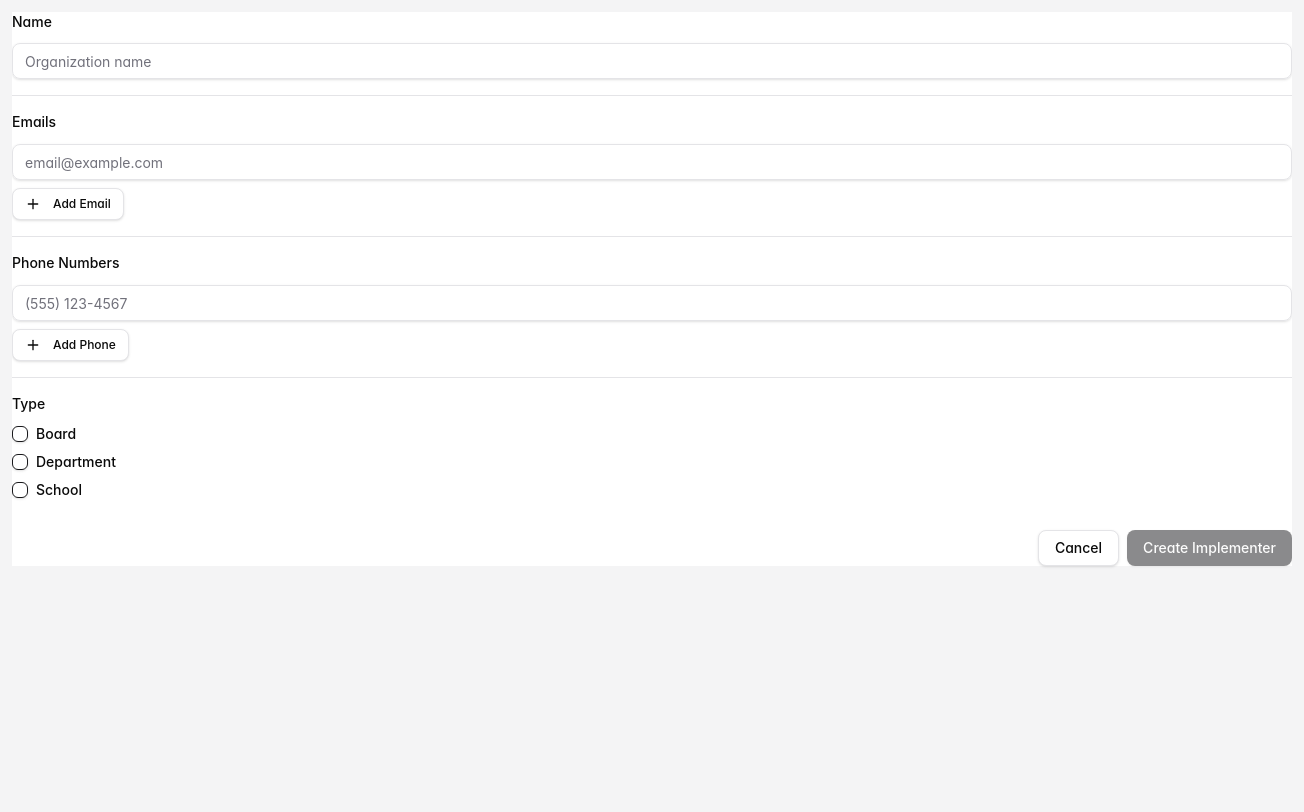
Test: ImplementerForm › create mode › shows validation error for empty name on blur
This screenshot has width=1304, height=812.
In the field labelled "Name": (652, 61) [12,43,1292,79], type "a"
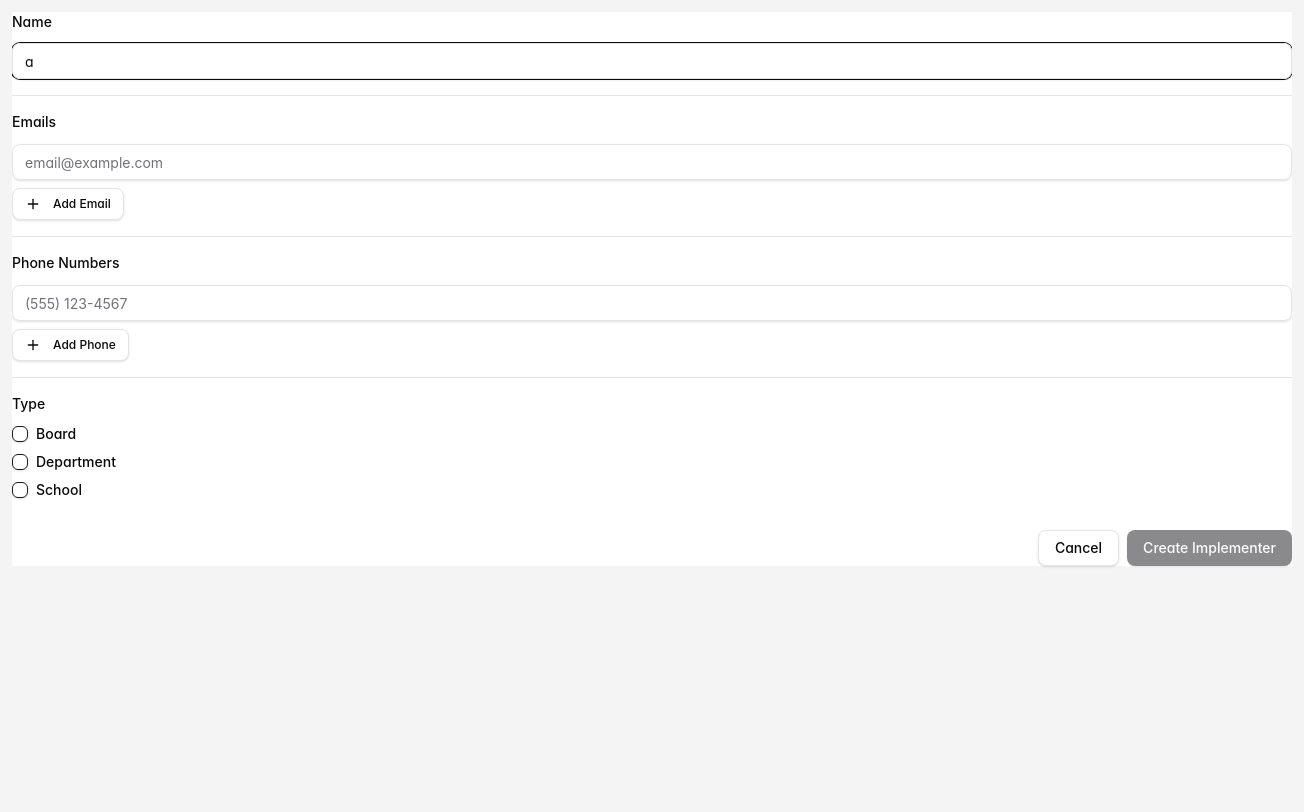
Clear the field labelled "Name": (652, 61) [12,43,1292,79]
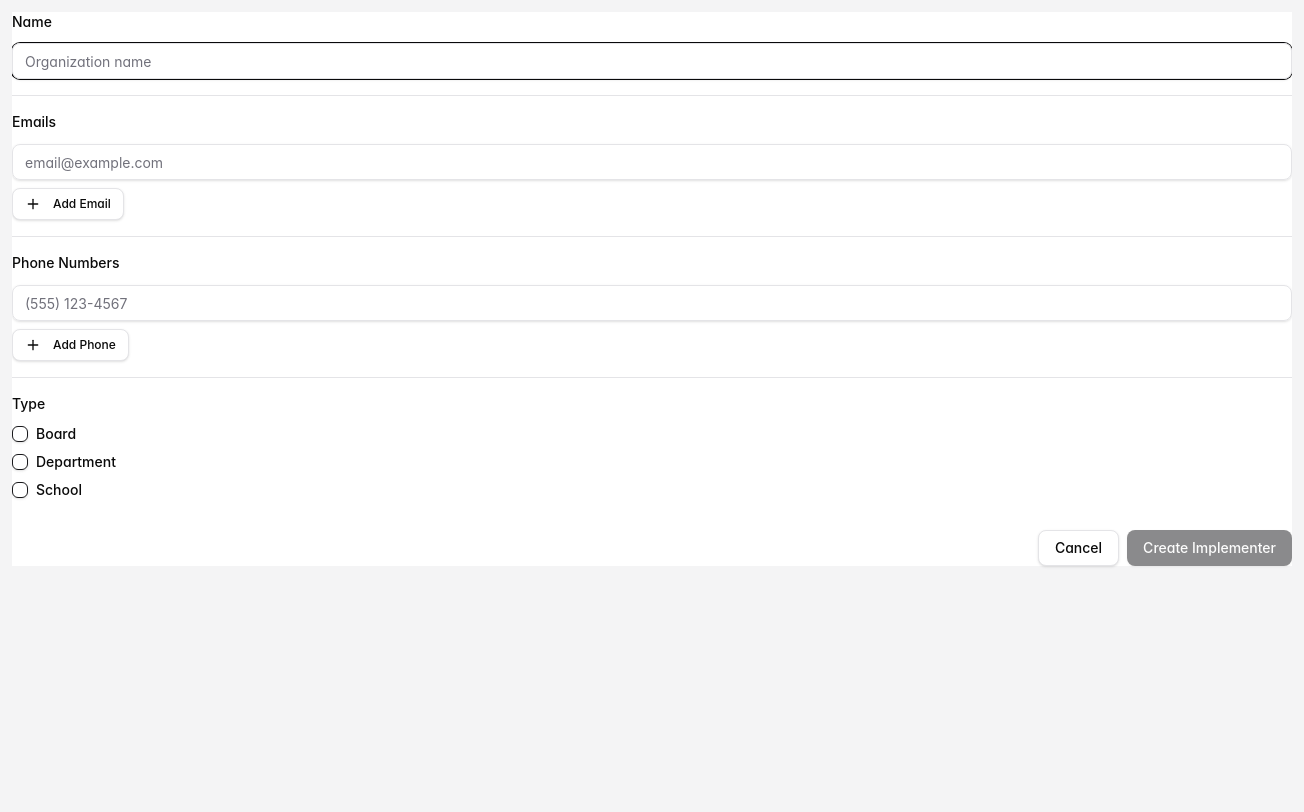
Press Tab
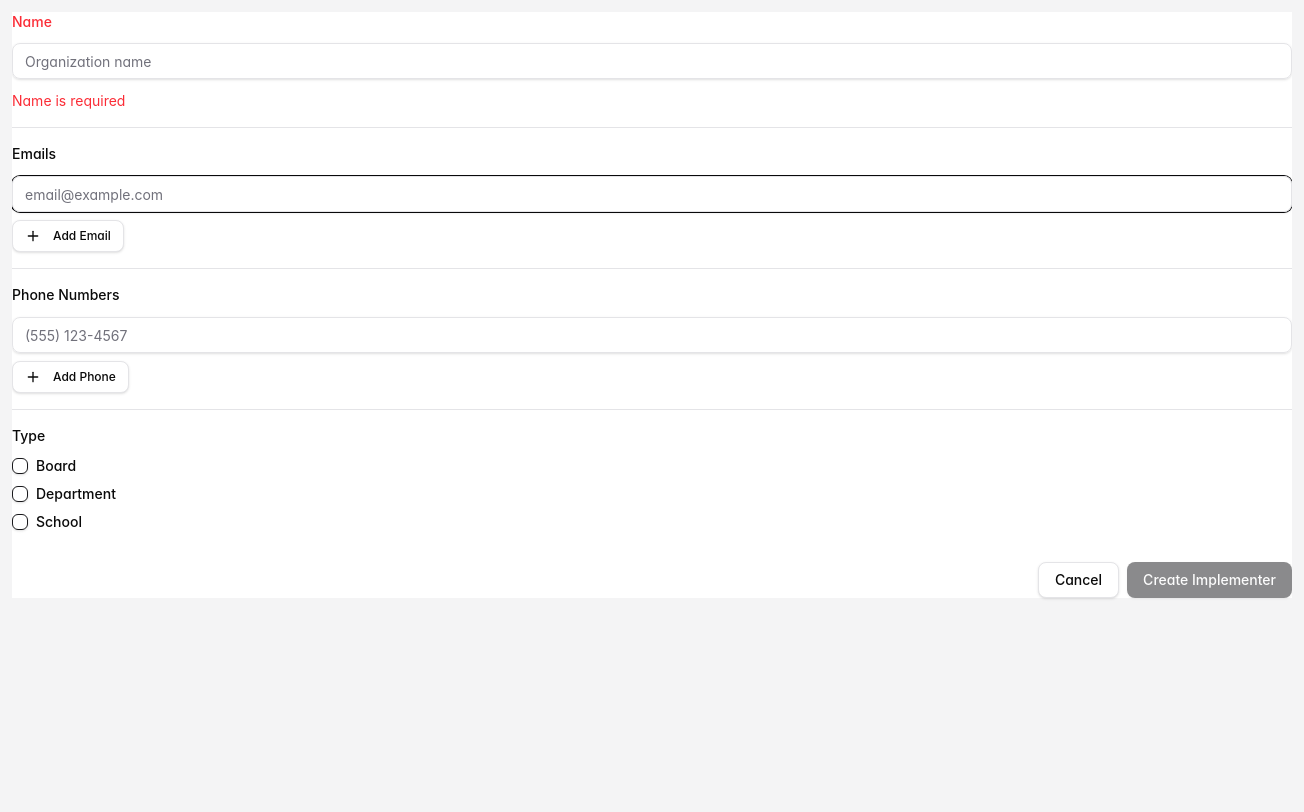
Check: the text "Name is required" is shown, box [12,92,125,109]
